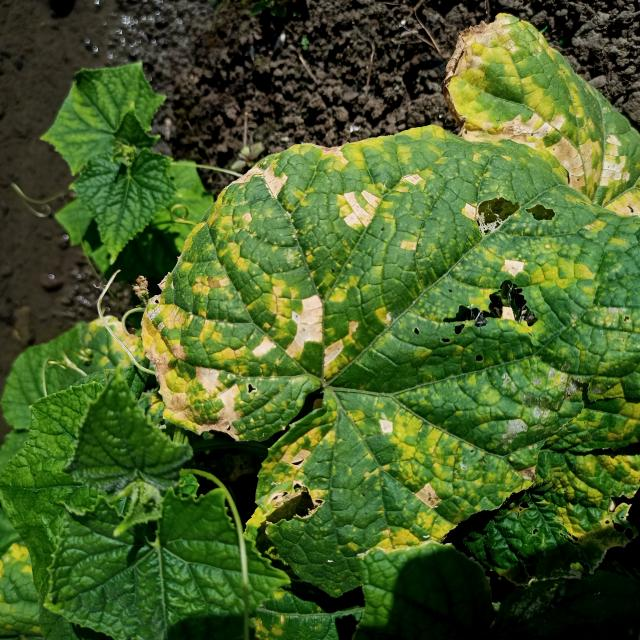disease_cucumber: (144, 138, 634, 573), (449, 18, 640, 198)
